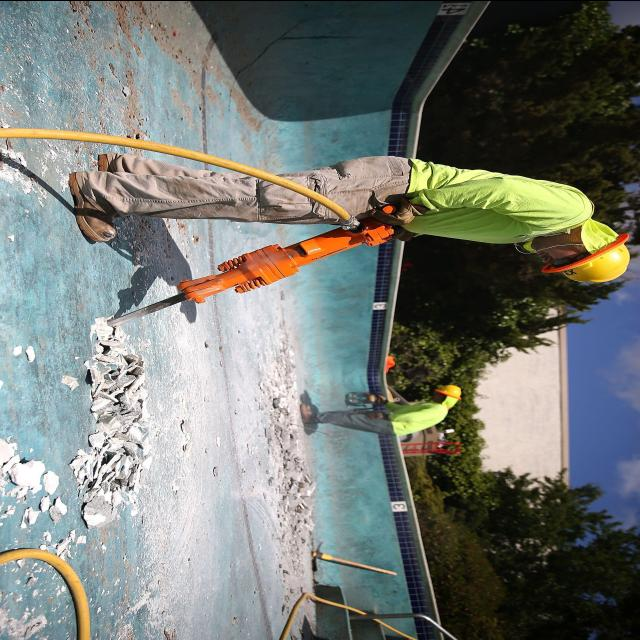helmet: (538, 226, 640, 289), (437, 381, 473, 398)
jacket: (408, 150, 606, 258), (388, 396, 453, 440)
